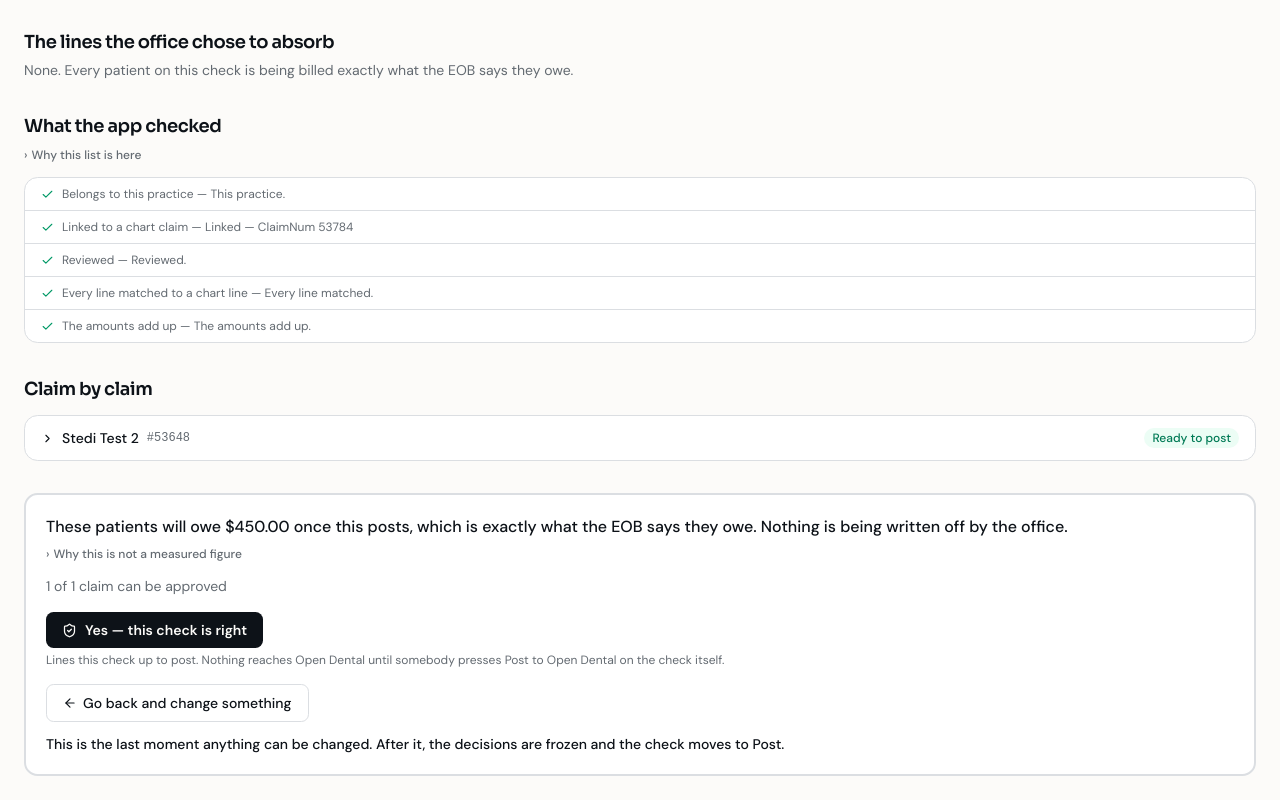
Test: approving lands on the work, never on a list › goes to the claim that was held back, and names it, when one was
The width and height of the screenshot is (1280, 800).
(page scrolled)
Click the button with test id "approve-button" at (155, 630), box [46,612,263,648]
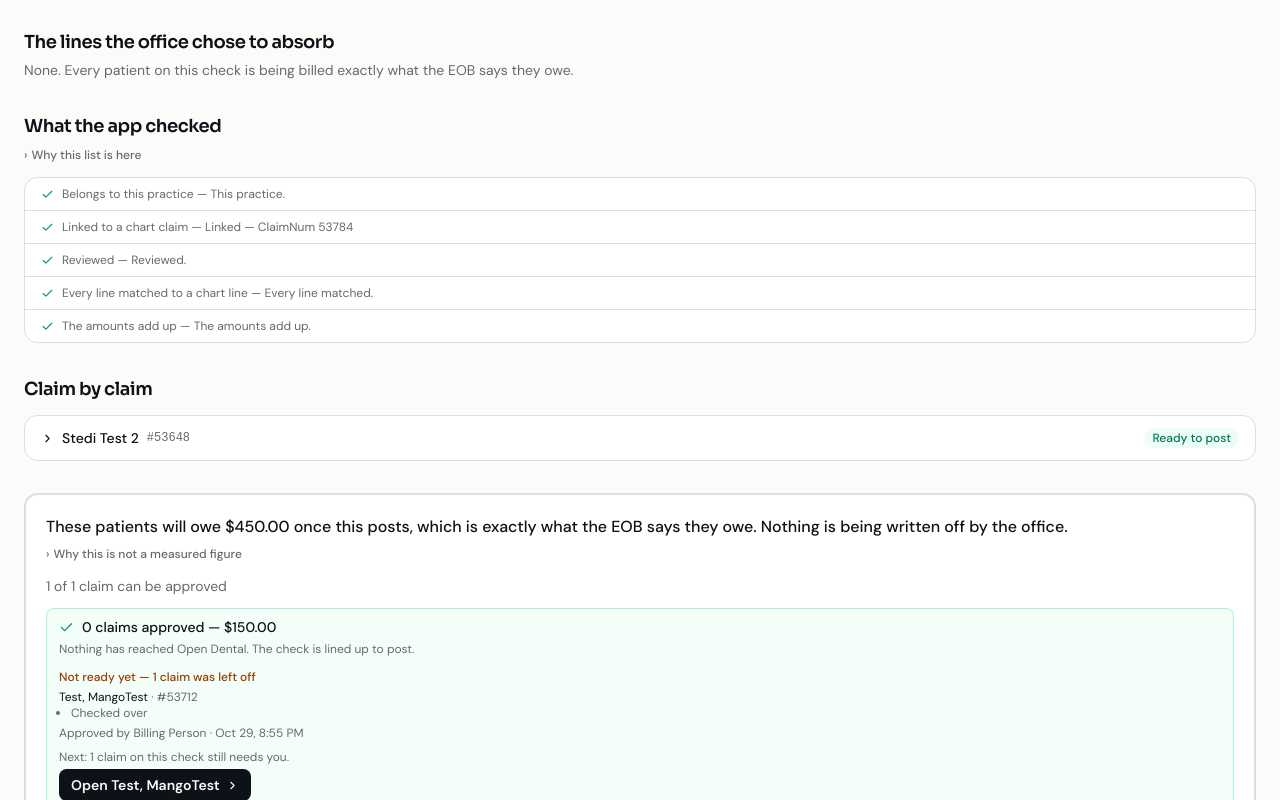
expect the link with test id "approve-back-after" reads "Open Test, MangoTest": met, box [59,769,251,799]
expect the text with test id "approve-onward-next" reads "Next: 1 claim on this check still needs you.": met, box [59,749,289,765]
